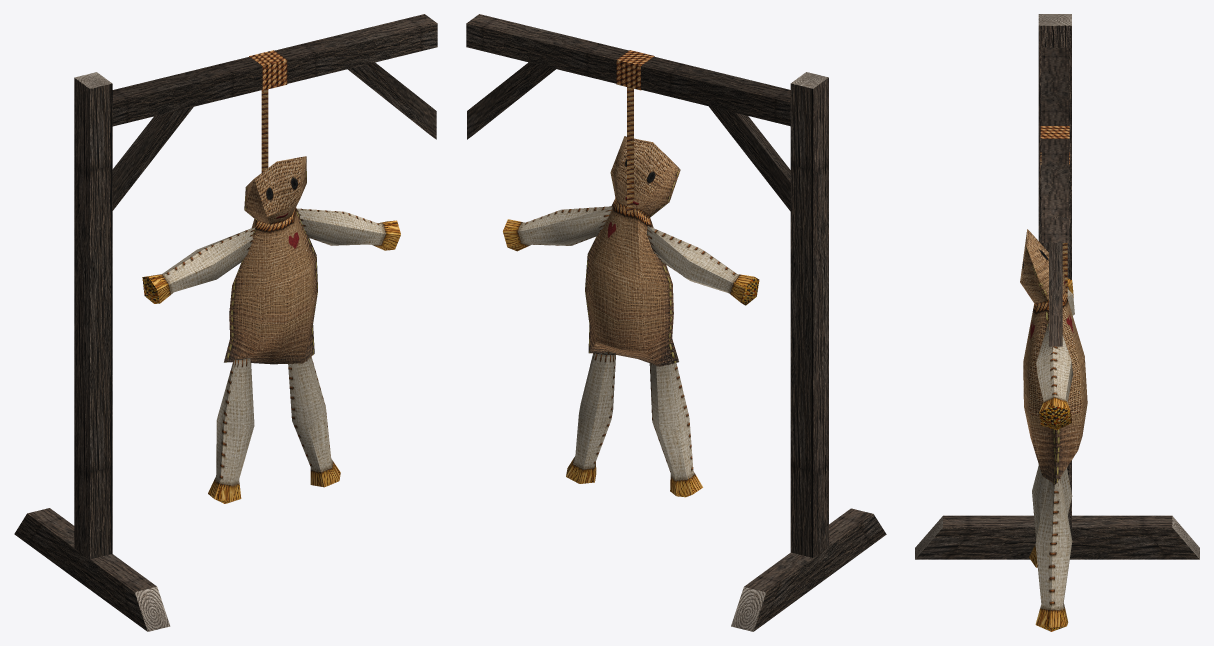
File: mm9_deco_strawdummy2r.glb
3 views of the same model, side by side, from view 1: azimuth 30°, elevation 25°; view 2: azimuth 150°, elevation 25°; view 3: azimuth 270°, elevation 25° (orthographic). The views are drawn at different scales.
Parts seen in each view (by area): view 1: Strawdummy2r; view 2: Strawdummy2r; view 3: Strawdummy2r.
Part boxes in pixels (bbox=[...]): Strawdummy2r: bbox=[14, 14, 437, 631]; Strawdummy2r: bbox=[466, 14, 886, 631]; Strawdummy2r: bbox=[915, 14, 1199, 631].
Bounding box in the file's own units: 2.39 × 3.25 × 1.57.
Materials: 2 (2 with a texture image).
